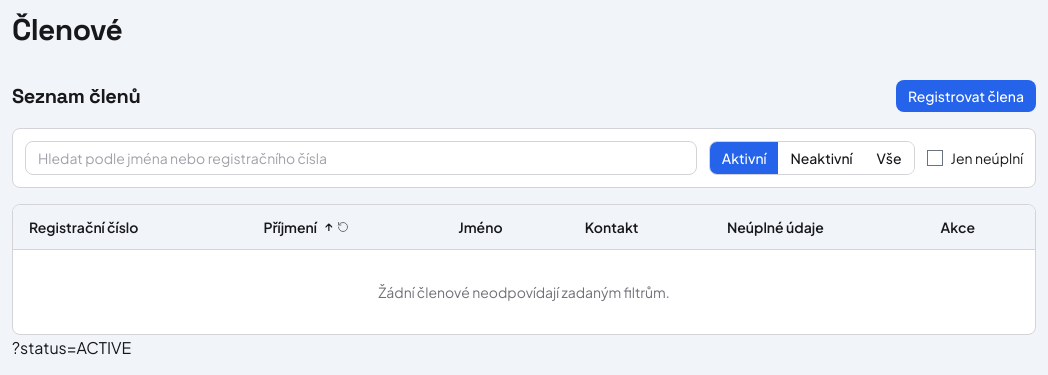
Test: MembersPage — filter bar integration › clicking Neaktivní pill updates the URL to ?status=INACTIVE when hasManageAuthority is true
Click the button "Neaktivní".
click(822, 158)  # box [778,142,865,174]
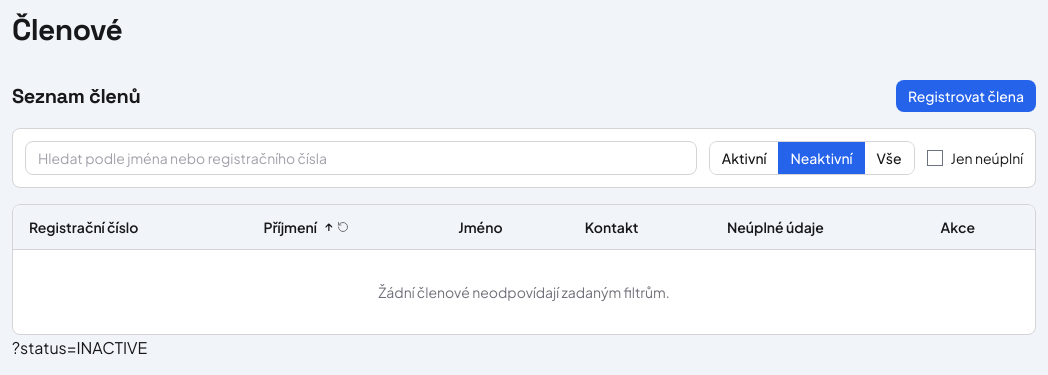
Check: the text with test id "search-string" shows "status=INACTIVE", box [12,337,147,358]
